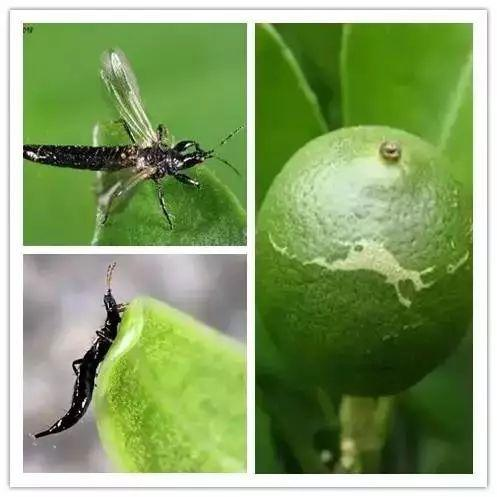Phlaeothripidae: (23, 44, 245, 229), (27, 261, 132, 445)
